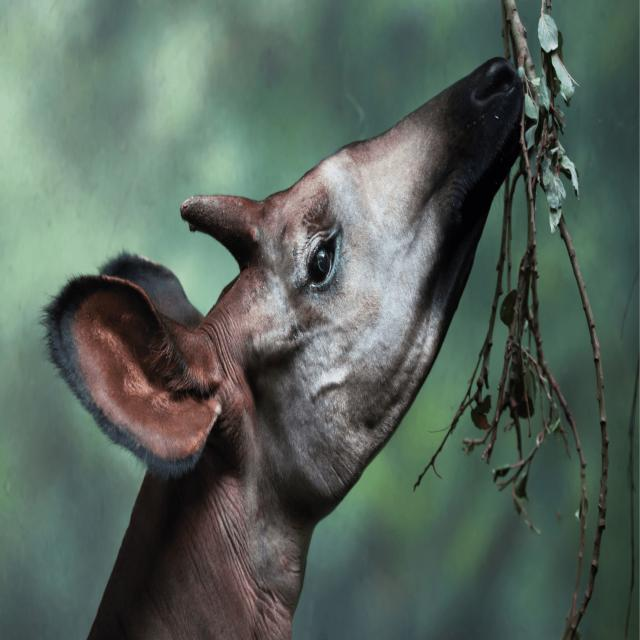Okapi: (43, 56, 525, 640)
